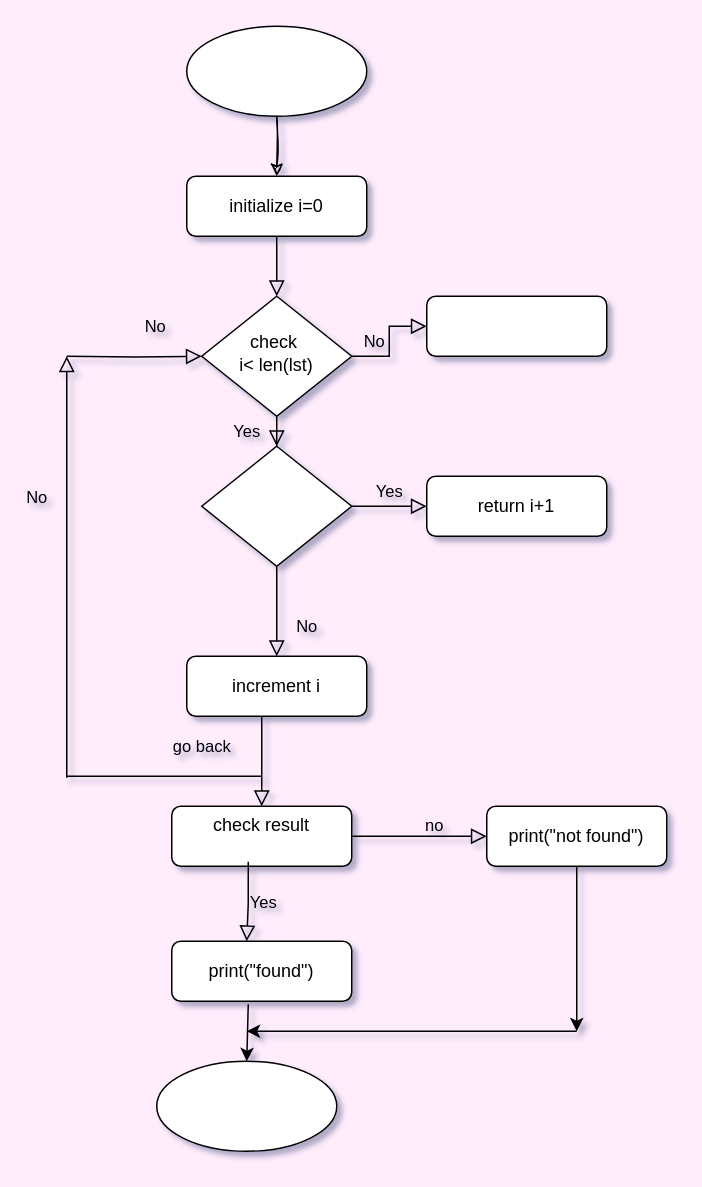
This 702x1187 diagram has some shape labels left out. Here are the shapes that lost their labels. From the top down, the box of each, then its label:
(185, 25, 367, 116): start
(425, 295, 607, 356): return -1
(200, 445, 352, 566): check lst[i]==n
(155, 1060, 337, 1151): end
